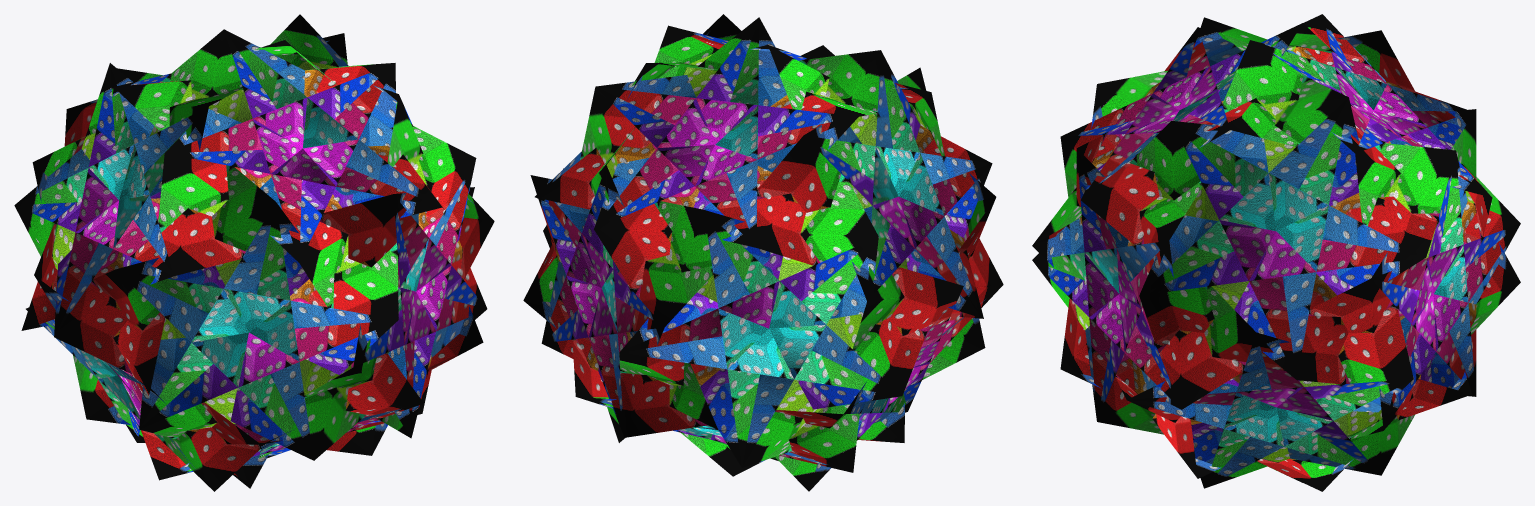
Rendered from 19InvertedSnubDodecadodecahedron.gltf.
3 renders of one model, left to right at view 1: azimuth 30°, elevation 25°; view 2: azimuth 150°, elevation 25°; view 3: azimuth 270°, elevation 25°, orthographic.
Visible parts, largest first — view 1: 16InvertedSnubDodecadodecahedron; view 2: 16InvertedSnubDodecadodecahedron; view 3: 16InvertedSnubDodecadodecahedron.
Part boxes in pixels (box(x1,y1,x2,y2)): 16InvertedSnubDodecadodecahedron: box(14, 14, 494, 491); 16InvertedSnubDodecadodecahedron: box(523, 14, 1003, 491); 16InvertedSnubDodecadodecahedron: box(1032, 14, 1520, 491).
Bounding box in the file's own units: 1.69 × 1.69 × 1.69.
Materials: 1 (1 with a texture image).
